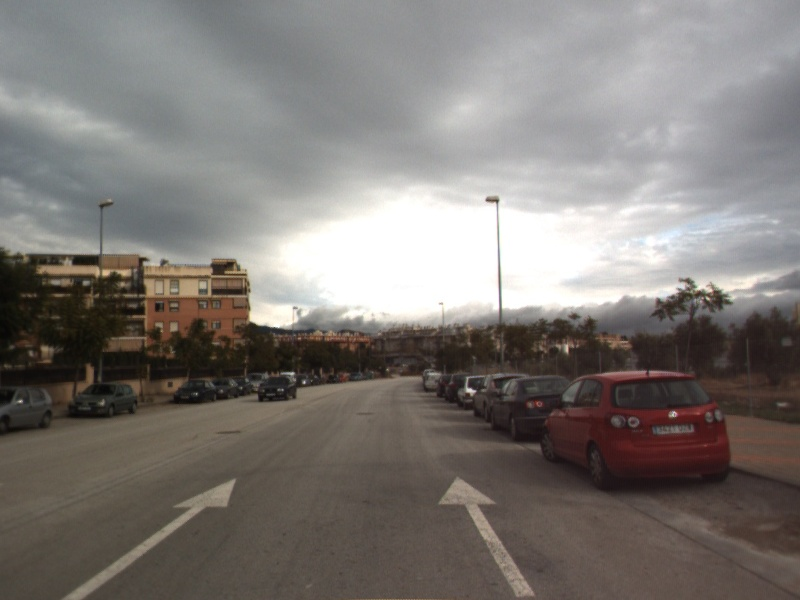STRAIGHT: (57, 476, 239, 600), (435, 474, 538, 598)
